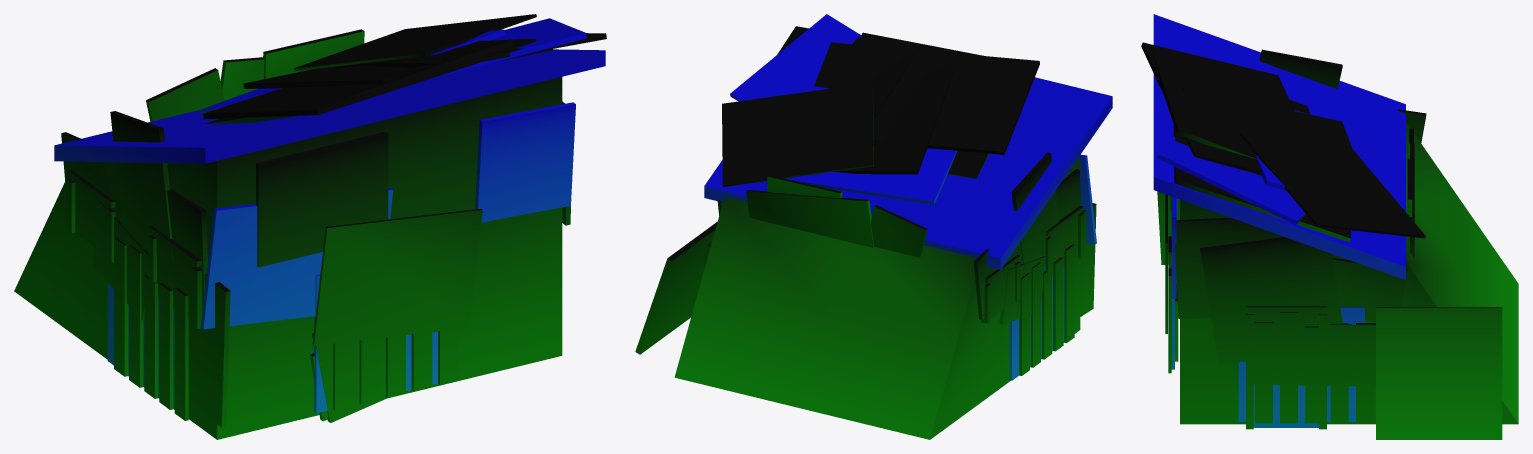
Rendered from crashshanty2.glb.
3 views of the same model, side by side, from view 1: azimuth 30°, elevation 25°; view 2: azimuth 150°, elevation 25°; view 3: azimuth 270°, elevation 25° (orthographic). The views are drawn at different scales.
Parts seen in each view (by area): view 1: lod0; view 2: lod0; view 3: lod0.
Boxes of the visible parts, x1,y1,x2,y2 form: lod0: [14, 14, 606, 439]; lod0: [635, 14, 1112, 439]; lod0: [1141, 14, 1518, 439].
Size of what is drawn, in the model's own units: 6.31 by 4.7 by 5.69.
